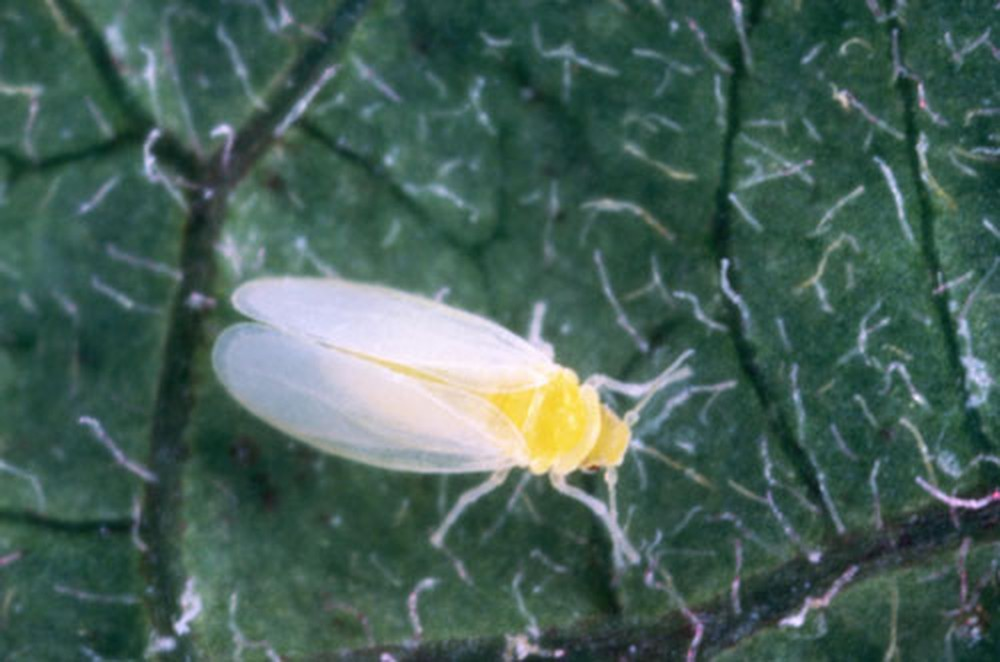Mosca Blanca: (196, 241, 714, 575)
